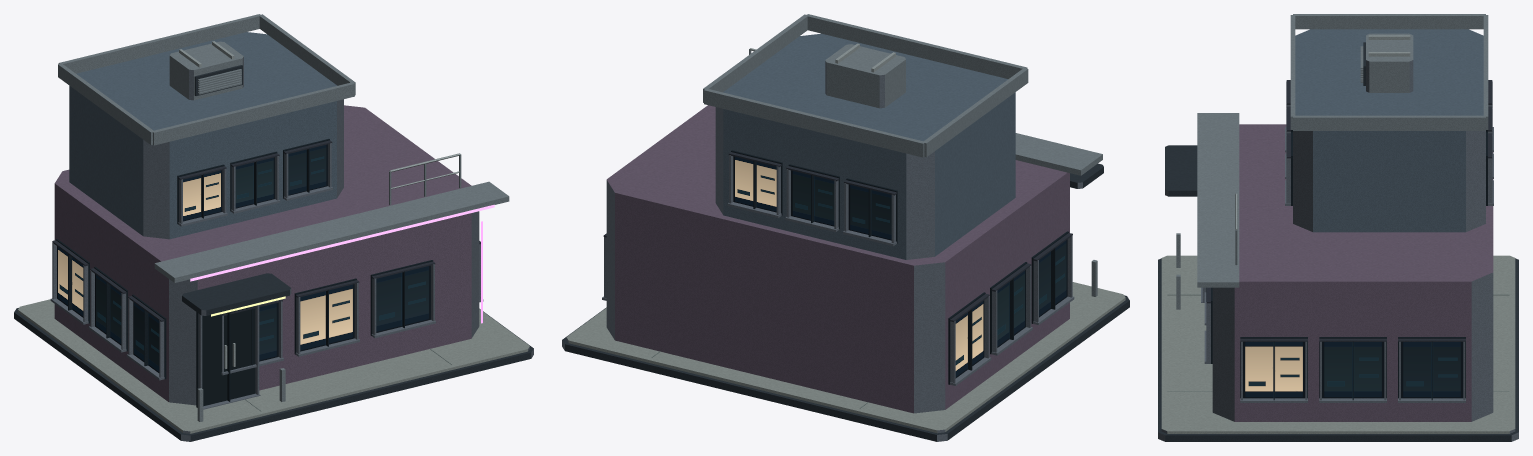
Rendered from 05-games-annex-03.glb.
The picture shows the model from 3 angles, left to right: view 1: azimuth 30°, elevation 25°; view 2: azimuth 150°, elevation 25°; view 3: azimuth 270°, elevation 25°; orthographic projection. The views are drawn at different scales.
Visible parts, largest first — view 1: games_architecture; view 2: games_architecture; view 3: games_architecture.
Boxes of the visible parts, x1=… form: games_architecture: x1=14, y1=14, x2=533, y2=441; games_architecture: x1=562, y1=14, x2=1129, y2=441; games_architecture: x1=1158, y1=14, x2=1518, y2=441.
Bounding box in the file's own units: 11.6 × 8.68 × 9.9.
2 materials, 2 textured.
